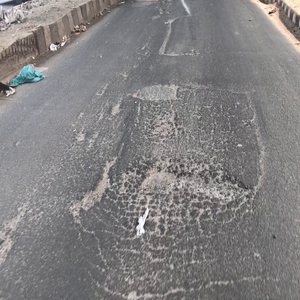pothole: (142, 166, 246, 204)
